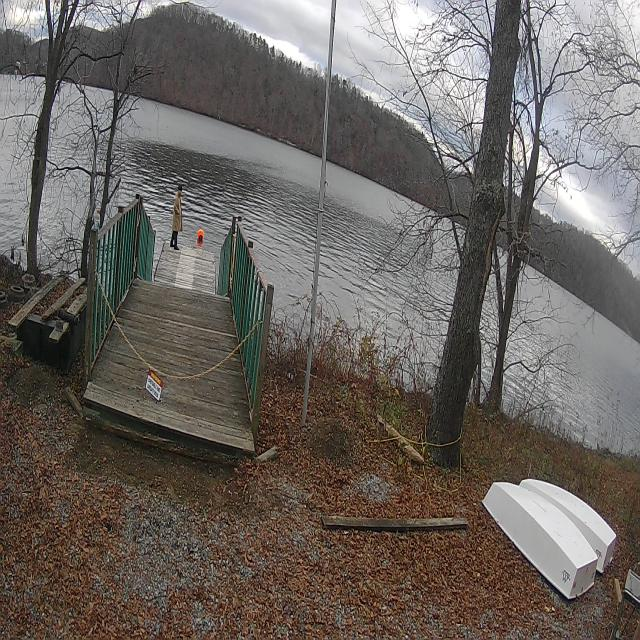Buoy: (196, 224, 207, 248)
